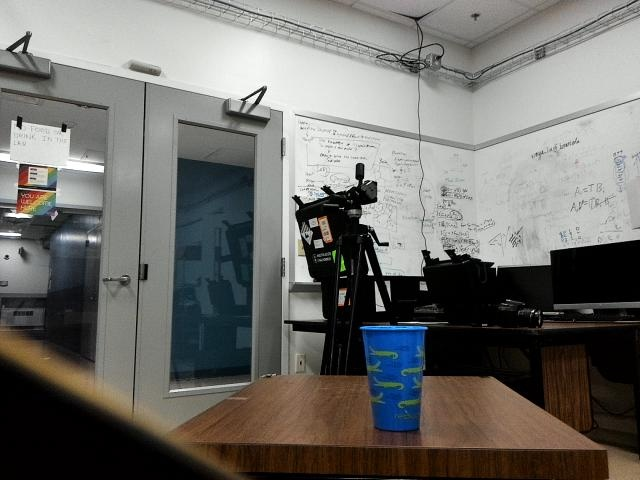water_cup: (358, 320, 431, 438)
